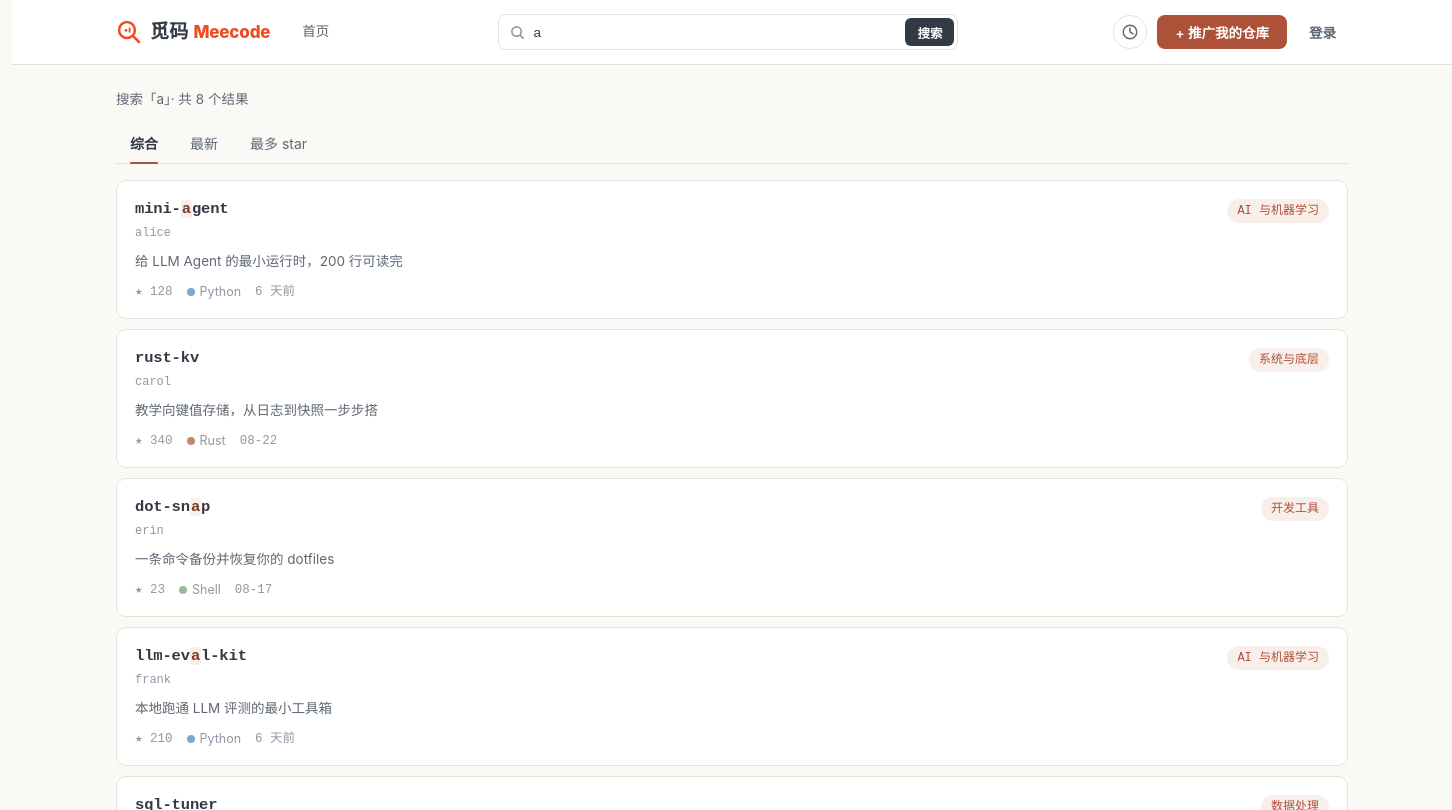
Scenario: SearchPage › 排序与页码写入 URL
Expected: the list item with test id "search-card-1" is shown, [116, 180, 1348, 319]
Step 1. Click the tab "最新" → [204, 143], box [176, 123, 232, 163]
(page scrolled)
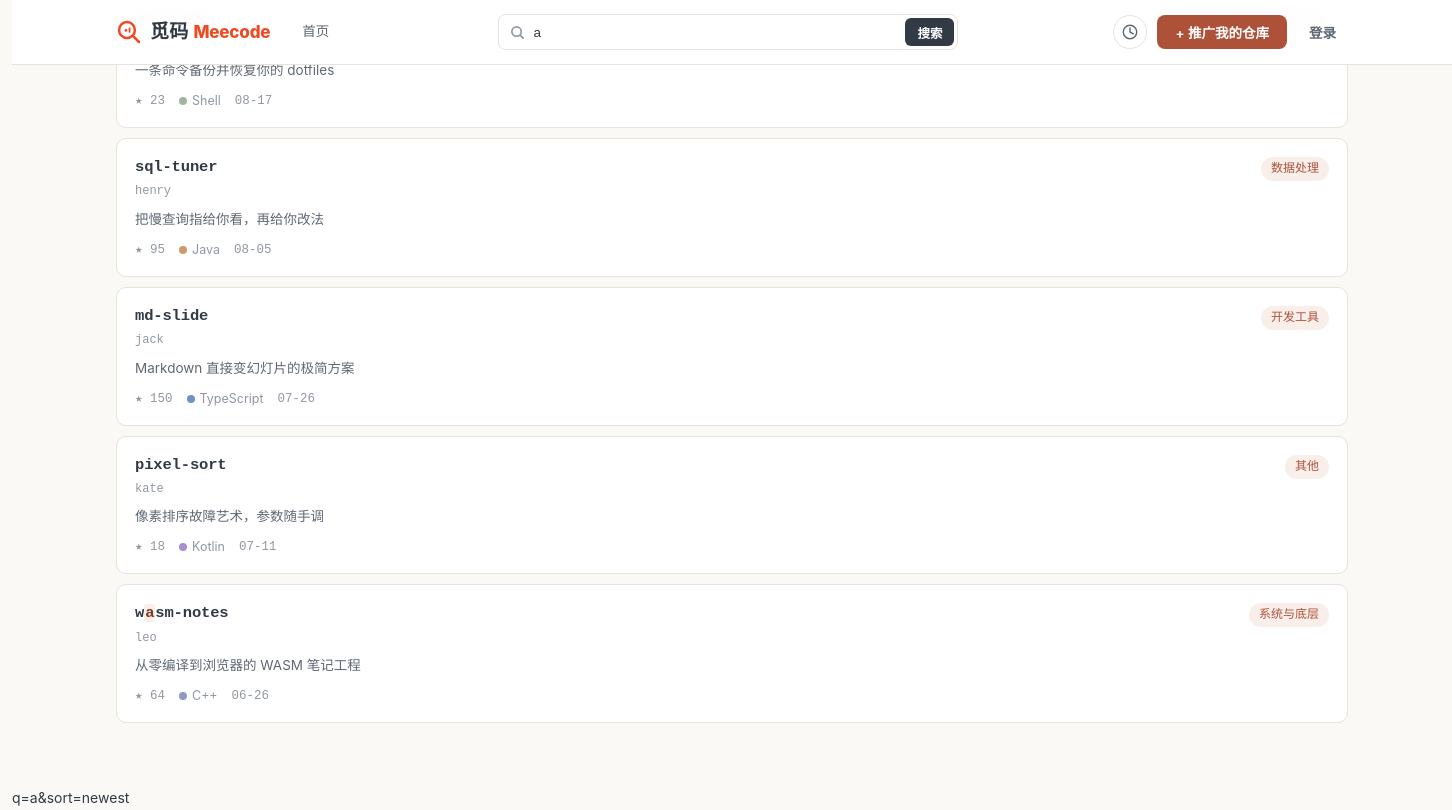
Now the text with test id "params" shows "sort=newest", box [12, 790, 129, 806]
